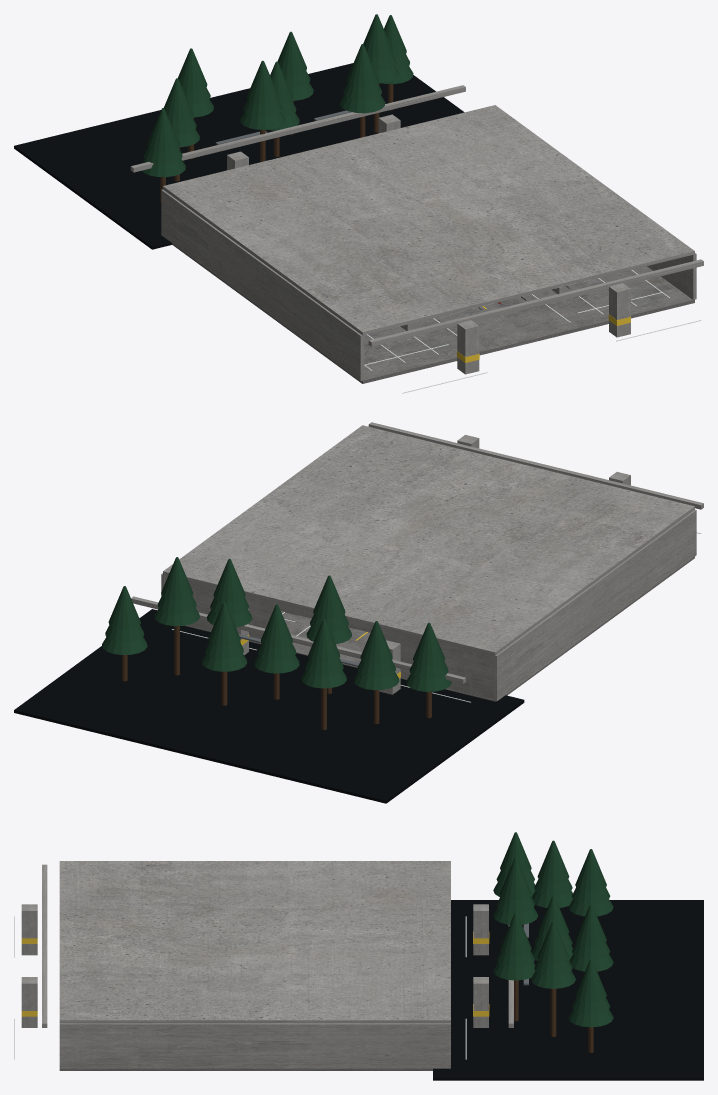
File: 12_outside_forest_route.glb
The picture shows the model from 3 angles, top to bottom: view 1: azimuth 30°, elevation 25°; view 2: azimuth 150°, elevation 25°; view 3: azimuth 270°, elevation 25°; orthographic projection.
Visible parts, largest first — view 1: Concrete ceiling, Outside ground, Concrete floor, Left retaining wall, Overhead beam, Overhead beam.004, Concrete support column, Concrete support column.005, Right retaining wall, Dark pine canopy.020, Dark pine canopy.002, Dark pine canopy.011 (+6 smaller); view 2: Concrete ceiling, Outside ground, Left retaining wall, Outside opening left pier, Overhead beam, Concrete floor, Outside opening right pier, Overhead beam.004, Dark pine canopy.005, Dark pine canopy.026, Dark pine canopy.002, Dark pine canopy.011 (+11 smaller); view 3: Concrete ceiling, Outside ground, Right retaining wall, Concrete floor, Overhead beam, Dark pine canopy.020, Dark pine canopy.023, Dark pine canopy.008, Dark pine canopy.011, Dark pine canopy.005, Dark pine canopy.017, Dark pine canopy.026 (+20 smaller).
Part boxes in pixels (x1=…): Concrete ceiling: x1=163, y1=105, x2=694, y2=335; Outside ground: x1=14, y1=63, x2=464, y2=249; Concrete floor: x1=172, y1=243, x2=694, y2=383; Left retaining wall: x1=161, y1=189, x2=364, y2=380; Overhead beam: x1=368, y1=259, x2=703, y2=346; Overhead beam.004: x1=130, y1=85, x2=465, y2=172; Concrete support column: x1=457, y1=320, x2=479, y2=374; Concrete support column.005: x1=609, y1=283, x2=630, y2=337; Right retaining wall: x1=647, y1=253, x2=696, y2=299; Dark pine canopy.020: x1=346, y1=44, x2=378, y2=87; Dark pine canopy.002: x1=147, y1=108, x2=179, y2=151; Dark pine canopy.011: x1=247, y1=60, x2=278, y2=104; Concrete ceiling: x1=163, y1=425, x2=694, y2=655; Outside ground: x1=14, y1=609, x2=524, y2=803; Left retaining wall: x1=493, y1=509, x2=696, y2=701; Outside opening left pier: x1=381, y1=628, x2=493, y2=700; Overhead beam: x1=368, y1=422, x2=703, y2=509; Concrete floor: x1=184, y1=557, x2=694, y2=701; Outside opening right pier: x1=165, y1=575, x2=277, y2=643; Overhead beam.004: x1=131, y1=596, x2=465, y2=683; Dark pine canopy.005: x1=360, y1=621, x2=392, y2=664; Dark pine canopy.026: x1=108, y1=586, x2=140, y2=629; Dark pine canopy.002: x1=413, y1=622, x2=444, y2=666; Dark pine canopy.011: x1=313, y1=575, x2=345, y2=618; Concrete ceiling: x1=59, y1=861, x2=450, y2=1023; Outside ground: x1=433, y1=900, x2=703, y2=1080; Right retaining wall: x1=59, y1=1023, x2=450, y2=1068; Concrete floor: x1=59, y1=1068, x2=432, y2=1070; Overhead beam: x1=42, y1=864, x2=47, y2=1027; Dark pine canopy.020: x1=500, y1=912, x2=531, y2=955; Dark pine canopy.023: x1=537, y1=921, x2=569, y2=963; Dark pine canopy.008: x1=575, y1=849, x2=606, y2=891; Dark pine canopy.011: x1=500, y1=857, x2=531, y2=899; Dark pine canopy.005: x1=537, y1=840, x2=569, y2=883; Dark pine canopy.017: x1=575, y1=904, x2=606, y2=946; Dark pine canopy.026: x1=575, y1=959, x2=606, y2=1001.
Bounding box in the file's own units: 28 × 8.64 × 45.84.
Materials: 11 (2 with a texture image).
